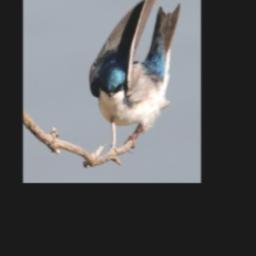Swallow: (88, 0, 182, 154)
